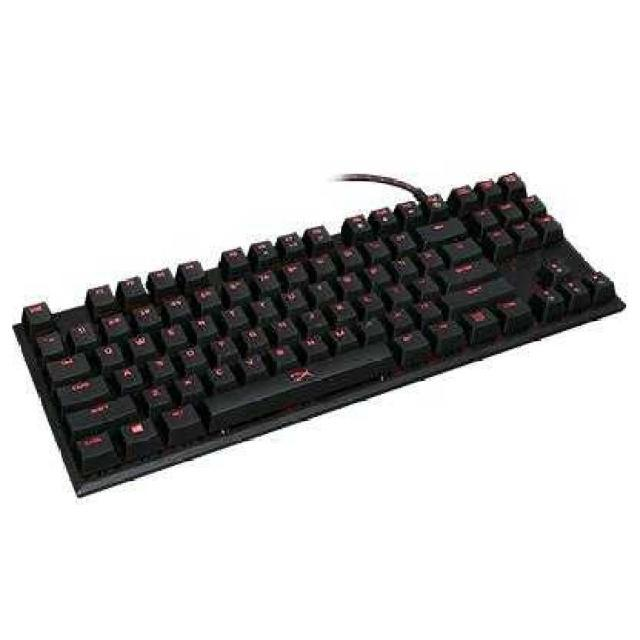keyboard: (12, 167, 629, 500)
